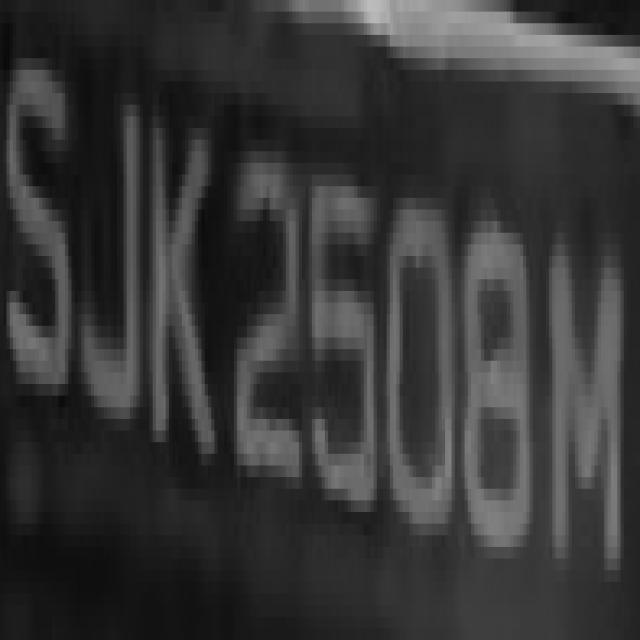0: (374, 174, 458, 594)
2: (221, 93, 305, 489)
5: (305, 116, 380, 547)
8: (455, 198, 539, 593)
J: (78, 35, 149, 454)
K: (136, 81, 218, 512)
M: (539, 233, 627, 605)
S: (6, 23, 78, 442)
